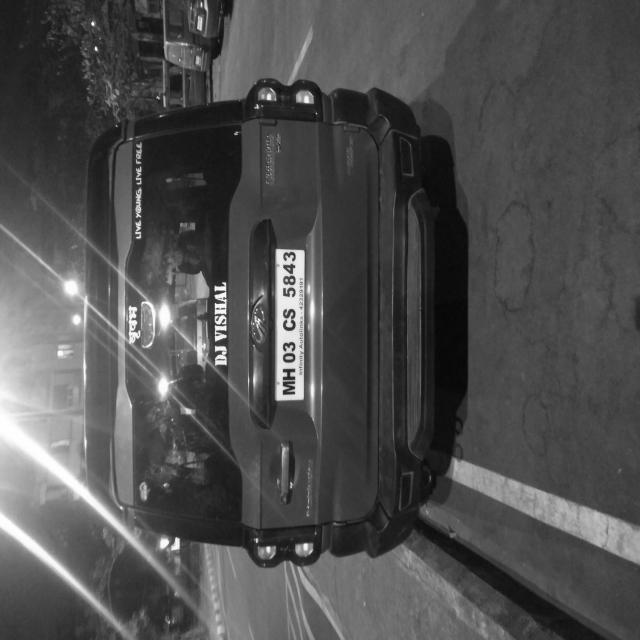car: (46, 100, 426, 620)
license-plate: (178, 363, 298, 408)
